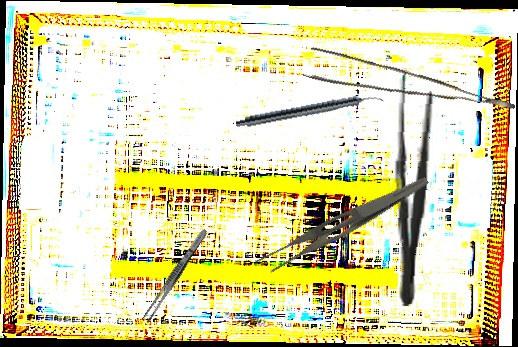Dressing Forceps: (253, 158, 430, 285), (388, 71, 436, 308), (141, 226, 210, 325)
Handpiece: (235, 89, 384, 133)
Tissue Forceps: (301, 36, 516, 144)
